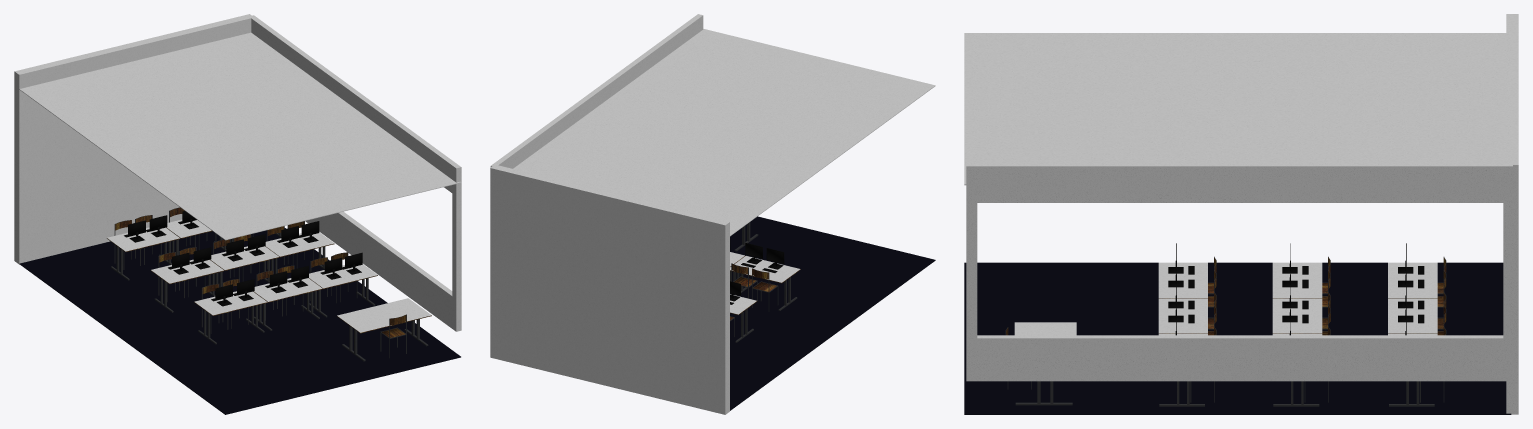
The model's file is salle_classe_haut06.obj.
3 views of the same model, side by side, from view 1: azimuth 30°, elevation 25°; view 2: azimuth 150°, elevation 25°; view 3: azimuth 270°, elevation 25° (orthographic). The views are drawn at different scales.
Visible parts, largest first — view 1: plafond_classe.020; view 2: plafond_classe.020; view 3: plafond_classe.020.
Boxes of the visible parts, <box> form: plafond_classe.020: <box>14,14,461,414</box>; plafond_classe.020: <box>490,14,935,414</box>; plafond_classe.020: <box>964,14,1518,414</box>.
Size of the model in its own units: 14.52 by 11.1 by 22.35.
Materials: 5 (3 with a texture image).
